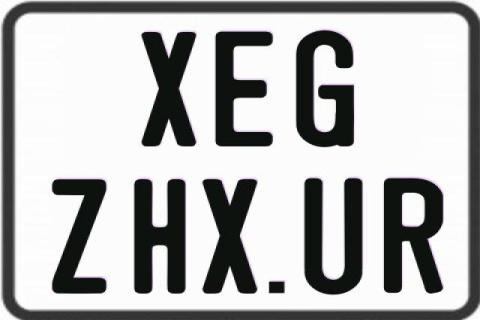E: (212, 29, 270, 145)
G: (293, 29, 351, 149)
H: (132, 178, 188, 296)
R: (383, 178, 443, 294)
U: (302, 178, 366, 296)
X: (139, 32, 197, 146), (204, 180, 260, 298)
Z: (50, 179, 103, 299)
